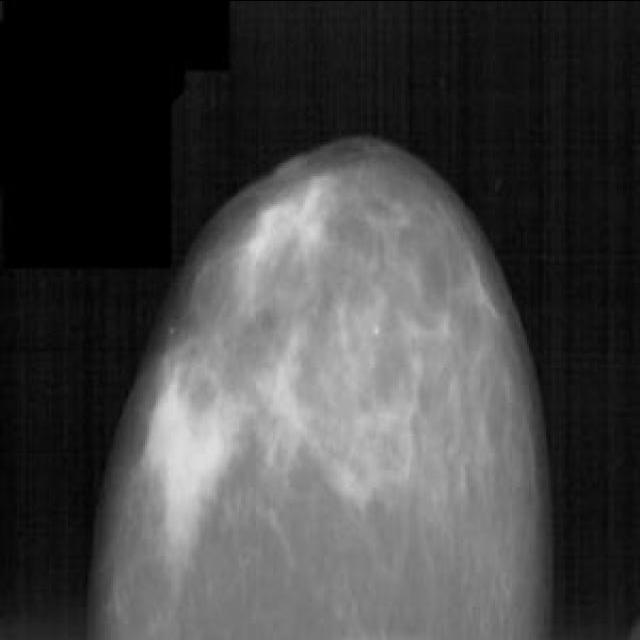tumor: (122, 372, 244, 543), (228, 165, 346, 285)
